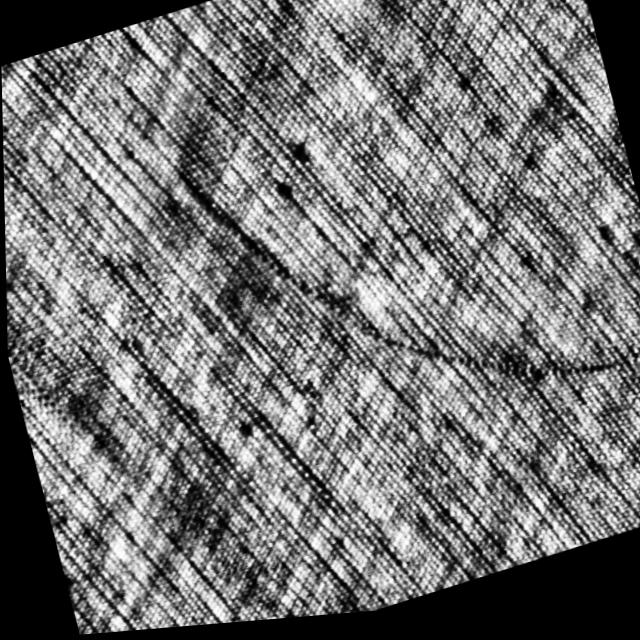Stitch: (167, 55, 623, 499)
